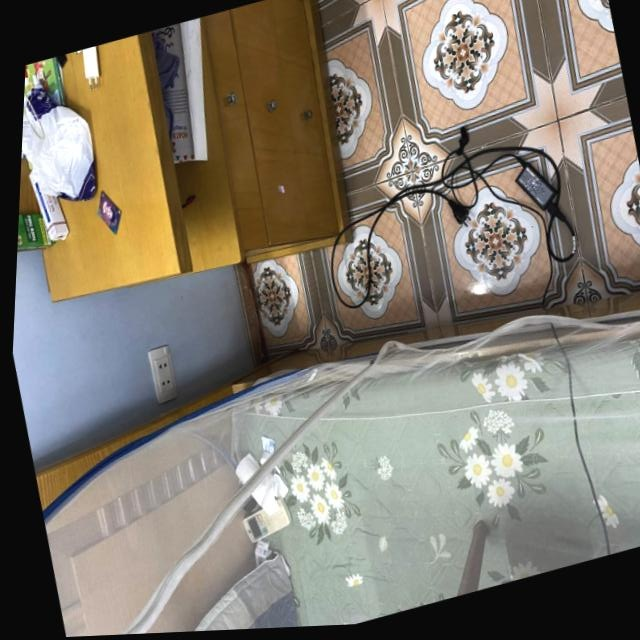outlet: (144, 345, 181, 407)
